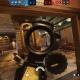Character: (41, 42, 44, 48)
Head: (42, 42, 43, 44)
